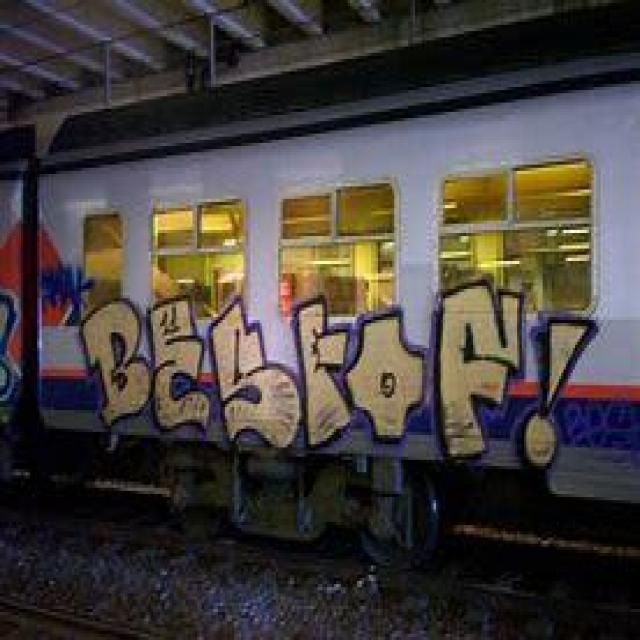nonspitting: (81, 276, 599, 472), (37, 264, 93, 318)
